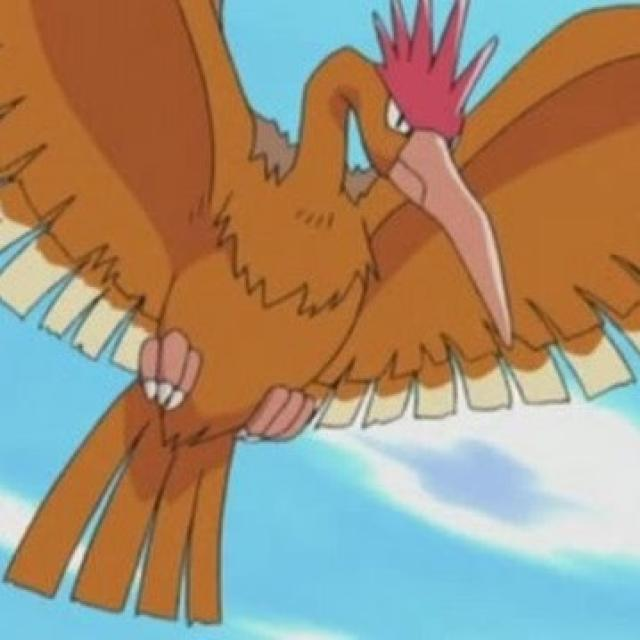Fearow: (0, 0, 579, 496)
